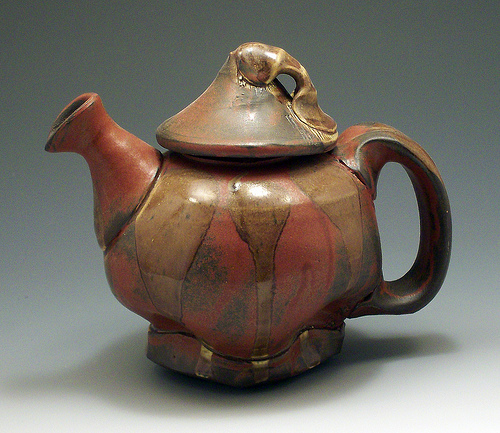teapot: (32, 12, 467, 407)
